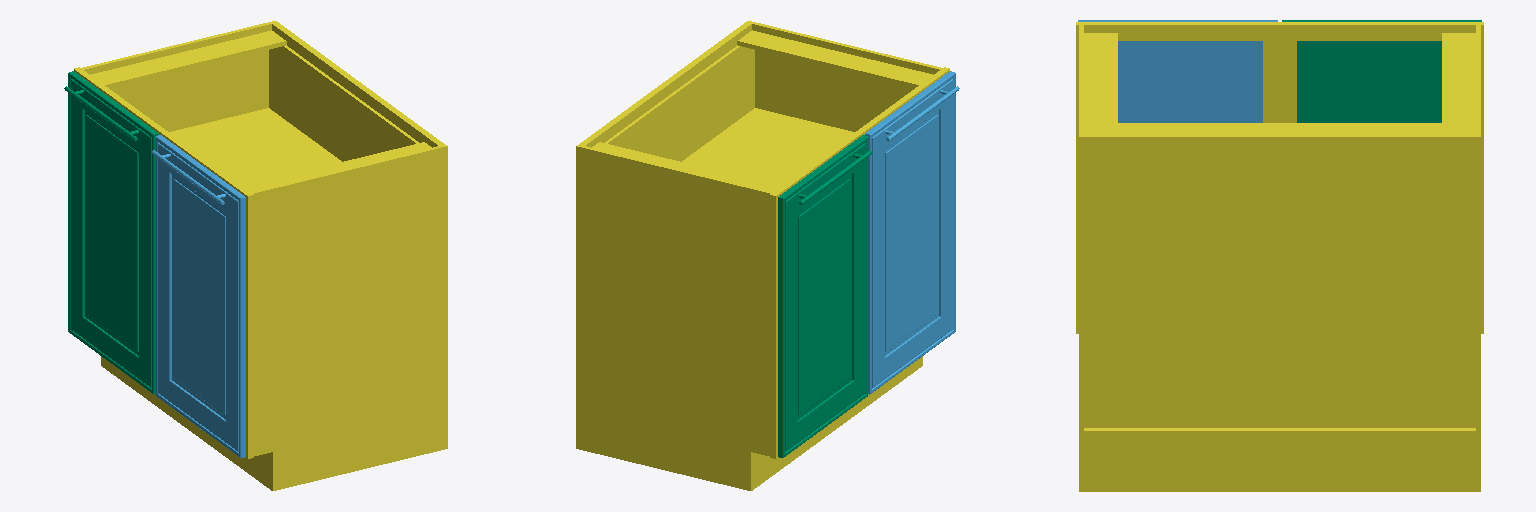
robot.urdf — partnet_1676f8b995b976e5824662341ce2b233:
<?xml version="1.0" ?>
<robot name="partnet_1676f8b995b976e5824662341ce2b233">
	<link name="base"/>
	<link name="link_0">
		<visual name="cabinet_door_surface-8">
			<origin xyz="-0.6293170790203719 -0.6086450219154358 -0.4252905637110561"/>
			<geometry>
				<mesh filename="textured_objs/original-43.obj"/>
			</geometry>
		</visual>
		<visual name="cabinet_door_surface-8">
			<origin xyz="-0.6293170790203719 -0.6086450219154358 -0.4252905637110561"/>
			<geometry>
				<mesh filename="textured_objs/original-48.obj"/>
			</geometry>
		</visual>
		<visual name="cabinet_door_surface-8">
			<origin xyz="-0.6293170790203719 -0.6086450219154358 -0.4252905637110561"/>
			<geometry>
				<mesh filename="textured_objs/original-44.obj"/>
			</geometry>
		</visual>
		<visual name="cabinet_door_surface-8">
			<origin xyz="-0.6293170790203719 -0.6086450219154358 -0.4252905637110561"/>
			<geometry>
				<mesh filename="textured_objs/original-50.obj"/>
			</geometry>
		</visual>
		<visual name="cabinet_door_surface-8">
			<origin xyz="-0.6293170790203719 -0.6086450219154358 -0.4252905637110561"/>
			<geometry>
				<mesh filename="textured_objs/original-49.obj"/>
			</geometry>
		</visual>
		<visual name="cabinet_door_surface-8">
			<origin xyz="-0.6293170790203719 -0.6086450219154358 -0.4252905637110561"/>
			<geometry>
				<mesh filename="textured_objs/original-47.obj"/>
			</geometry>
		</visual>
		<visual name="cabinet_door_surface-8">
			<origin xyz="-0.6293170790203719 -0.6086450219154358 -0.4252905637110561"/>
			<geometry>
				<mesh filename="textured_objs/original-46.obj"/>
			</geometry>
		</visual>
		<visual name="cabinet_door_surface-8">
			<origin xyz="-0.6293170790203719 -0.6086450219154358 -0.4252905637110561"/>
			<geometry>
				<mesh filename="textured_objs/original-51.obj"/>
			</geometry>
		</visual>
		<visual name="cabinet_door_surface-8">
			<origin xyz="-0.6293170790203719 -0.6086450219154358 -0.4252905637110561"/>
			<geometry>
				<mesh filename="textured_objs/original-45.obj"/>
			</geometry>
		</visual>
		<visual name="cabinet_door_surface-8">
			<origin xyz="-0.6293170790203719 -0.6086450219154358 -0.4252905637110561"/>
			<geometry>
				<mesh filename="textured_objs/original-42.obj"/>
			</geometry>
		</visual>
		<visual name="handle-9">
			<origin xyz="-0.6293170790203719 -0.6086450219154358 -0.4252905637110561"/>
			<geometry>
				<mesh filename="textured_objs/original-55.obj"/>
			</geometry>
		</visual>
		<visual name="handle-9">
			<origin xyz="-0.6293170790203719 -0.6086450219154358 -0.4252905637110561"/>
			<geometry>
				<mesh filename="textured_objs/original-53.obj"/>
			</geometry>
		</visual>
		<visual name="handle-9">
			<origin xyz="-0.6293170790203719 -0.6086450219154358 -0.4252905637110561"/>
			<geometry>
				<mesh filename="textured_objs/original-54.obj"/>
			</geometry>
		</visual>
		<collision>
			<origin xyz="-0.6293170790203719 -0.6086450219154358 -0.4252905637110561"/>
			<geometry>
				<mesh filename="textured_objs/original-43.obj"/>
			</geometry>
		</collision>
		<collision>
			<origin xyz="-0.6293170790203719 -0.6086450219154358 -0.4252905637110561"/>
			<geometry>
				<mesh filename="textured_objs/original-48.obj"/>
			</geometry>
		</collision>
		<collision>
			<origin xyz="-0.6293170790203719 -0.6086450219154358 -0.4252905637110561"/>
			<geometry>
				<mesh filename="textured_objs/original-44.obj"/>
			</geometry>
		</collision>
		<collision>
			<origin xyz="-0.6293170790203719 -0.6086450219154358 -0.4252905637110561"/>
			<geometry>
				<mesh filename="textured_objs/original-50.obj"/>
			</geometry>
		</collision>
		<collision>
			<origin xyz="-0.6293170790203719 -0.6086450219154358 -0.4252905637110561"/>
			<geometry>
				<mesh filename="textured_objs/original-49.obj"/>
			</geometry>
		</collision>
		<collision>
			<origin xyz="-0.6293170790203719 -0.6086450219154358 -0.4252905637110561"/>
			<geometry>
				<mesh filename="textured_objs/original-47.obj"/>
			</geometry>
		</collision>
		<collision>
			<origin xyz="-0.6293170790203719 -0.6086450219154358 -0.4252905637110561"/>
			<geometry>
				<mesh filename="textured_objs/original-46.obj"/>
			</geometry>
		</collision>
		<collision>
			<origin xyz="-0.6293170790203719 -0.6086450219154358 -0.4252905637110561"/>
			<geometry>
				<mesh filename="textured_objs/original-51.obj"/>
			</geometry>
		</collision>
		<collision>
			<origin xyz="-0.6293170790203719 -0.6086450219154358 -0.4252905637110561"/>
			<geometry>
				<mesh filename="textured_objs/original-45.obj"/>
			</geometry>
		</collision>
		<collision>
			<origin xyz="-0.6293170790203719 -0.6086450219154358 -0.4252905637110561"/>
			<geometry>
				<mesh filename="textured_objs/original-42.obj"/>
			</geometry>
		</collision>
		<collision>
			<origin xyz="-0.6293170790203719 -0.6086450219154358 -0.4252905637110561"/>
			<geometry>
				<mesh filename="textured_objs/original-55.obj"/>
			</geometry>
		</collision>
		<collision>
			<origin xyz="-0.6293170790203719 -0.6086450219154358 -0.4252905637110561"/>
			<geometry>
				<mesh filename="textured_objs/original-53.obj"/>
			</geometry>
		</collision>
		<collision>
			<origin xyz="-0.6293170790203719 -0.6086450219154358 -0.4252905637110561"/>
			<geometry>
				<mesh filename="textured_objs/original-54.obj"/>
			</geometry>
		</collision>
	</link>
	<joint name="joint_0" type="revolute">
		<origin xyz="0.6293170790203719 0.6086450219154358 0.4252905637110561"/>
		<axis xyz="0 0.9999999999999999 0"/>
		<child link="link_0"/>
		<parent link="link_2"/>
		<limit lower="0.0" upper="1.5707963267948966"/>
	</joint>
	<link name="link_1">
		<visual name="cabinet_door_surface-6">
			<origin xyz="0.6466144835367729 -0.6086450219154358 -0.42931528988591117"/>
			<geometry>
				<mesh filename="textured_objs/original-30.obj"/>
			</geometry>
		</visual>
		<visual name="cabinet_door_surface-6">
			<origin xyz="0.6466144835367729 -0.6086450219154358 -0.42931528988591117"/>
			<geometry>
				<mesh filename="textured_objs/original-34.obj"/>
			</geometry>
		</visual>
		<visual name="cabinet_door_surface-6">
			<origin xyz="0.6466144835367729 -0.6086450219154358 -0.42931528988591117"/>
			<geometry>
				<mesh filename="textured_objs/original-26.obj"/>
			</geometry>
		</visual>
		<visual name="cabinet_door_surface-6">
			<origin xyz="0.6466144835367729 -0.6086450219154358 -0.42931528988591117"/>
			<geometry>
				<mesh filename="textured_objs/original-32.obj"/>
			</geometry>
		</visual>
		<visual name="cabinet_door_surface-6">
			<origin xyz="0.6466144835367729 -0.6086450219154358 -0.42931528988591117"/>
			<geometry>
				<mesh filename="textured_objs/original-25.obj"/>
			</geometry>
		</visual>
		<visual name="cabinet_door_surface-6">
			<origin xyz="0.6466144835367729 -0.6086450219154358 -0.42931528988591117"/>
			<geometry>
				<mesh filename="textured_objs/original-33.obj"/>
			</geometry>
		</visual>
		<visual name="cabinet_door_surface-6">
			<origin xyz="0.6466144835367729 -0.6086450219154358 -0.42931528988591117"/>
			<geometry>
				<mesh filename="textured_objs/original-35.obj"/>
			</geometry>
		</visual>
		<visual name="cabinet_door_surface-6">
			<origin xyz="0.6466144835367729 -0.6086450219154358 -0.42931528988591117"/>
			<geometry>
				<mesh filename="textured_objs/original-27.obj"/>
			</geometry>
		</visual>
		<visual name="cabinet_door_surface-6">
			<origin xyz="0.6466144835367729 -0.6086450219154358 -0.42931528988591117"/>
			<geometry>
				<mesh filename="textured_objs/original-28.obj"/>
			</geometry>
		</visual>
		<visual name="cabinet_door_surface-6">
			<origin xyz="0.6466144835367729 -0.6086450219154358 -0.42931528988591117"/>
			<geometry>
				<mesh filename="textured_objs/original-31.obj"/>
			</geometry>
		</visual>
		<visual name="handle-7">
			<origin xyz="0.6466144835367729 -0.6086450219154358 -0.42931528988591117"/>
			<geometry>
				<mesh filename="textured_objs/original-39.obj"/>
			</geometry>
		</visual>
		<visual name="handle-7">
			<origin xyz="0.6466144835367729 -0.6086450219154358 -0.42931528988591117"/>
			<geometry>
				<mesh filename="textured_objs/original-38.obj"/>
			</geometry>
		</visual>
		<visual name="handle-7">
			<origin xyz="0.6466144835367729 -0.6086450219154358 -0.42931528988591117"/>
			<geometry>
				<mesh filename="textured_objs/original-37.obj"/>
			</geometry>
		</visual>
		<collision>
			<origin xyz="0.6466144835367729 -0.6086450219154358 -0.42931528988591117"/>
			<geometry>
				<mesh filename="textured_objs/original-30.obj"/>
			</geometry>
		</collision>
		<collision>
			<origin xyz="0.6466144835367729 -0.6086450219154358 -0.42931528988591117"/>
			<geometry>
				<mesh filename="textured_objs/original-34.obj"/>
			</geometry>
		</collision>
		<collision>
			<origin xyz="0.6466144835367729 -0.6086450219154358 -0.42931528988591117"/>
			<geometry>
				<mesh filename="textured_objs/original-26.obj"/>
			</geometry>
		</collision>
		<collision>
			<origin xyz="0.6466144835367729 -0.6086450219154358 -0.42931528988591117"/>
			<geometry>
				<mesh filename="textured_objs/original-32.obj"/>
			</geometry>
		</collision>
		<collision>
			<origin xyz="0.6466144835367729 -0.6086450219154358 -0.42931528988591117"/>
			<geometry>
				<mesh filename="textured_objs/original-25.obj"/>
			</geometry>
		</collision>
		<collision>
			<origin xyz="0.6466144835367729 -0.6086450219154358 -0.42931528988591117"/>
			<geometry>
				<mesh filename="textured_objs/original-33.obj"/>
			</geometry>
		</collision>
		<collision>
			<origin xyz="0.6466144835367729 -0.6086450219154358 -0.42931528988591117"/>
			<geometry>
				<mesh filename="textured_objs/original-35.obj"/>
			</geometry>
		</collision>
		<collision>
			<origin xyz="0.6466144835367729 -0.6086450219154358 -0.42931528988591117"/>
			<geometry>
				<mesh filename="textured_objs/original-27.obj"/>
			</geometry>
		</collision>
		<collision>
			<origin xyz="0.6466144835367729 -0.6086450219154358 -0.42931528988591117"/>
			<geometry>
				<mesh filename="textured_objs/original-28.obj"/>
			</geometry>
		</collision>
		<collision>
			<origin xyz="0.6466144835367729 -0.6086450219154358 -0.42931528988591117"/>
			<geometry>
				<mesh filename="textured_objs/original-31.obj"/>
			</geometry>
		</collision>
		<collision>
			<origin xyz="0.6466144835367729 -0.6086450219154358 -0.42931528988591117"/>
			<geometry>
				<mesh filename="textured_objs/original-39.obj"/>
			</geometry>
		</collision>
		<collision>
			<origin xyz="0.6466144835367729 -0.6086450219154358 -0.42931528988591117"/>
			<geometry>
				<mesh filename="textured_objs/original-38.obj"/>
			</geometry>
		</collision>
		<collision>
			<origin xyz="0.6466144835367729 -0.6086450219154358 -0.42931528988591117"/>
			<geometry>
				<mesh filename="textured_objs/original-37.obj"/>
			</geometry>
		</collision>
	</link>
	<joint name="joint_1" type="revolute">
		<origin xyz="-0.6466144835367729 0.6086450219154358 0.42931528988591117"/>
		<axis xyz="0 -0.9999999999999999 0"/>
		<child link="link_1"/>
		<parent link="link_2"/>
		<limit lower="-0.0" upper="1.5707963267948966"/>
	</joint>
	<link name="link_2">
		<visual name="shelf-23">
			<origin xyz="0 0 0"/>
			<geometry>
				<mesh filename="textured_objs/original-23.obj"/>
			</geometry>
		</visual>
		<visual name="shelf-24">
			<origin xyz="0 0 0"/>
			<geometry>
				<mesh filename="textured_objs/original-2.obj"/>
			</geometry>
		</visual>
		<visual name="back_panel-18">
			<origin xyz="0 0 0"/>
			<geometry>
				<mesh filename="textured_objs/original-6.obj"/>
			</geometry>
		</visual>
		<visual name="bottom_panel-19">
			<origin xyz="0 0 0"/>
			<geometry>
				<mesh filename="textured_objs/original-3.obj"/>
			</geometry>
		</visual>
		<visual name="vertical_side_panel-25">
			<origin xyz="0 0 0"/>
			<geometry>
				<mesh filename="textured_objs/original-12.obj"/>
			</geometry>
		</visual>
		<visual name="vertical_side_panel-25">
			<origin xyz="0 0 0"/>
			<geometry>
				<mesh filename="textured_objs/original-11.obj"/>
			</geometry>
		</visual>
		<visual name="vertical_side_panel-26">
			<origin xyz="0 0 0"/>
			<geometry>
				<mesh filename="textured_objs/original-16.obj"/>
			</geometry>
		</visual>
		<visual name="vertical_side_panel-26">
			<origin xyz="0 0 0"/>
			<geometry>
				<mesh filename="textured_objs/original-15.obj"/>
			</geometry>
		</visual>
		<visual name="frame_vertical_bar-27">
			<origin xyz="0 0 0"/>
			<geometry>
				<mesh filename="textured_objs/original-8.obj"/>
			</geometry>
		</visual>
		<visual name="frame_vertical_bar-28">
			<origin xyz="0 0 0"/>
			<geometry>
				<mesh filename="textured_objs/original-4.obj"/>
			</geometry>
		</visual>
		<visual name="frame_vertical_bar-29">
			<origin xyz="0 0 0"/>
			<geometry>
				<mesh filename="textured_objs/original-18.obj"/>
			</geometry>
		</visual>
		<visual name="frame_horizontal_bar-30">
			<origin xyz="0 0 0"/>
			<geometry>
				<mesh filename="textured_objs/original-22.obj"/>
			</geometry>
		</visual>
		<visual name="frame_horizontal_bar-31">
			<origin xyz="0 0 0"/>
			<geometry>
				<mesh filename="textured_objs/original-21.obj"/>
			</geometry>
		</visual>
		<visual name="frame_horizontal_bar-32">
			<origin xyz="0 0 0"/>
			<geometry>
				<mesh filename="textured_objs/original-5.obj"/>
			</geometry>
		</visual>
		<visual name="frame_horizontal_bar-33">
			<origin xyz="0 0 0"/>
			<geometry>
				<mesh filename="textured_objs/original-9.obj"/>
			</geometry>
		</visual>
		<visual name="frame_horizontal_bar-34">
			<origin xyz="0 0 0"/>
			<geometry>
				<mesh filename="textured_objs/original-7.obj"/>
			</geometry>
		</visual>
		<visual name="other_leaf-36">
			<origin xyz="0 0 0"/>
			<geometry>
				<mesh filename="textured_objs/original-56.obj"/>
			</geometry>
		</visual>
		<visual name="base_side_panel-11">
			<origin xyz="0 0 0"/>
			<geometry>
				<mesh filename="textured_objs/original-13.obj"/>
			</geometry>
		</visual>
		<visual name="base_side_panel-12">
			<origin xyz="0 0 0"/>
			<geometry>
				<mesh filename="textured_objs/original-19.obj"/>
			</geometry>
		</visual>
		<visual name="base_side_panel-13">
			<origin xyz="0 0 0"/>
			<geometry>
				<mesh filename="textured_objs/original-17.obj"/>
			</geometry>
		</visual>
		<visual name="base_side_panel-14">
			<origin xyz="0 0 0"/>
			<geometry>
				<mesh filename="textured_objs/original-20.obj"/>
			</geometry>
		</visual>
		<collision>
			<origin xyz="0 0 0"/>
			<geometry>
				<mesh filename="textured_objs/original-23.obj"/>
			</geometry>
		</collision>
		<collision>
			<origin xyz="0 0 0"/>
			<geometry>
				<mesh filename="textured_objs/original-2.obj"/>
			</geometry>
		</collision>
		<collision>
			<origin xyz="0 0 0"/>
			<geometry>
				<mesh filename="textured_objs/original-6.obj"/>
			</geometry>
		</collision>
		<collision>
			<origin xyz="0 0 0"/>
			<geometry>
				<mesh filename="textured_objs/original-3.obj"/>
			</geometry>
		</collision>
		<collision>
			<origin xyz="0 0 0"/>
			<geometry>
				<mesh filename="textured_objs/original-12.obj"/>
			</geometry>
		</collision>
		<collision>
			<origin xyz="0 0 0"/>
			<geometry>
				<mesh filename="textured_objs/original-11.obj"/>
			</geometry>
		</collision>
		<collision>
			<origin xyz="0 0 0"/>
			<geometry>
				<mesh filename="textured_objs/original-16.obj"/>
			</geometry>
		</collision>
		<collision>
			<origin xyz="0 0 0"/>
			<geometry>
				<mesh filename="textured_objs/original-15.obj"/>
			</geometry>
		</collision>
		<collision>
			<origin xyz="0 0 0"/>
			<geometry>
				<mesh filename="textured_objs/original-8.obj"/>
			</geometry>
		</collision>
		<collision>
			<origin xyz="0 0 0"/>
			<geometry>
				<mesh filename="textured_objs/original-4.obj"/>
			</geometry>
		</collision>
		<collision>
			<origin xyz="0 0 0"/>
			<geometry>
				<mesh filename="textured_objs/original-18.obj"/>
			</geometry>
		</collision>
		<collision>
			<origin xyz="0 0 0"/>
			<geometry>
				<mesh filename="textured_objs/original-22.obj"/>
			</geometry>
		</collision>
		<collision>
			<origin xyz="0 0 0"/>
			<geometry>
				<mesh filename="textured_objs/original-21.obj"/>
			</geometry>
		</collision>
		<collision>
			<origin xyz="0 0 0"/>
			<geometry>
				<mesh filename="textured_objs/original-5.obj"/>
			</geometry>
		</collision>
		<collision>
			<origin xyz="0 0 0"/>
			<geometry>
				<mesh filename="textured_objs/original-9.obj"/>
			</geometry>
		</collision>
		<collision>
			<origin xyz="0 0 0"/>
			<geometry>
				<mesh filename="textured_objs/original-7.obj"/>
			</geometry>
		</collision>
		<collision>
			<origin xyz="0 0 0"/>
			<geometry>
				<mesh filename="textured_objs/original-56.obj"/>
			</geometry>
		</collision>
		<collision>
			<origin xyz="0 0 0"/>
			<geometry>
				<mesh filename="textured_objs/original-13.obj"/>
			</geometry>
		</collision>
		<collision>
			<origin xyz="0 0 0"/>
			<geometry>
				<mesh filename="textured_objs/original-19.obj"/>
			</geometry>
		</collision>
		<collision>
			<origin xyz="0 0 0"/>
			<geometry>
				<mesh filename="textured_objs/original-17.obj"/>
			</geometry>
		</collision>
		<collision>
			<origin xyz="0 0 0"/>
			<geometry>
				<mesh filename="textured_objs/original-20.obj"/>
			</geometry>
		</collision>
	</link>
	<joint name="joint_2" type="fixed">
		<origin rpy="1.570796326794897 0 -1.570796326794897" xyz="0 0 0"/>
		<child link="link_2"/>
		<parent link="base"/>
	</joint>
</robot>

--- Render facts (derived) ---
Views: 3 orthographic renders of the robot side by side, from view 1: azimuth 30°, elevation 25°; view 2: azimuth 150°, elevation 25°; view 3: azimuth 270°, elevation 25°.
Model partnet_1676f8b995b976e5824662341ce2b233 with 4 links and 3 joints (2 revolute, 1 fixed), rooted at base, posed every joint at zero.
Links seen in each view (by area): view 1: link_2, link_0, link_1; view 2: link_2, link_1, link_0; view 3: link_2, link_0, link_1.
Boxes of the visible links, box(x1,y1,x2,y2) form: link_2: box(74, 21, 447, 490); link_0: box(151, 135, 245, 457); link_1: box(64, 71, 158, 394); link_2: box(576, 21, 949, 490); link_1: box(778, 135, 872, 457); link_0: box(865, 71, 959, 394); link_2: box(1076, 22, 1483, 491); link_0: box(1078, 20, 1277, 122); link_1: box(1282, 20, 1481, 122).
Bounding box of the posed robot: 0.9502 × 1.31 × 1.25 m (x, y, z).
47 mesh visuals loaded from 47 distinct referenced files (47 OBJ).